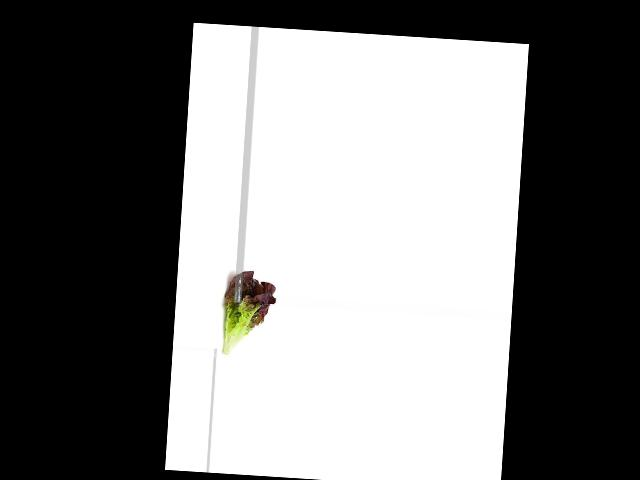lettuce: (216, 267, 278, 360)
